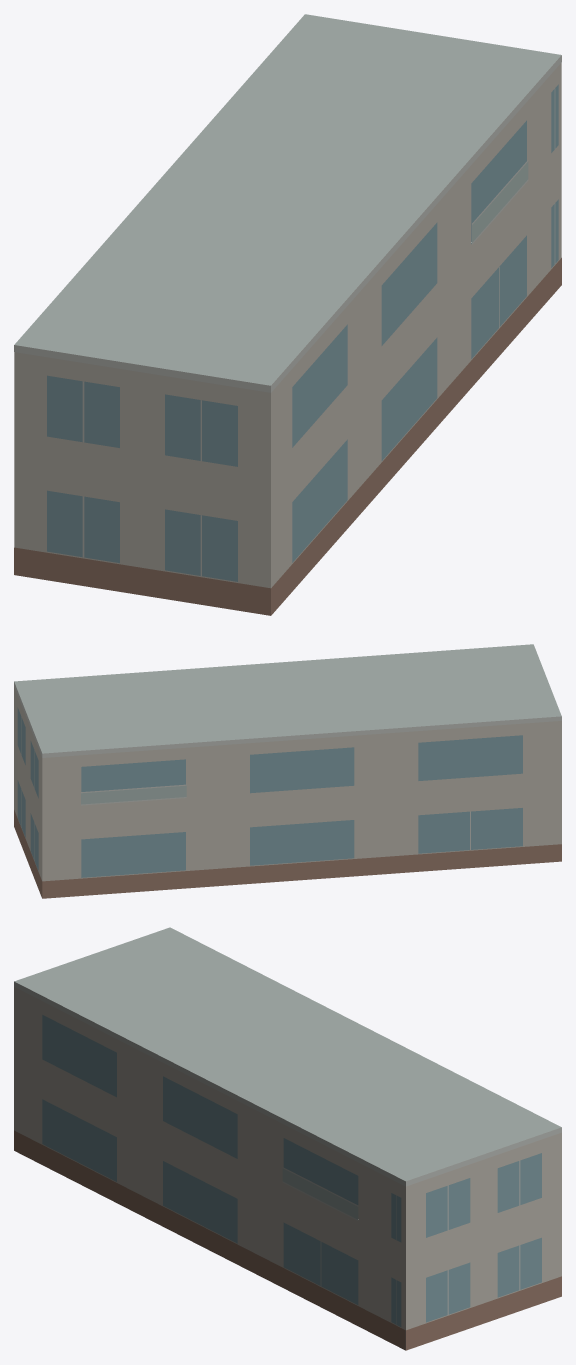
Rendered from survey-upis-32840279.glb.
3 renders of one model, top to bottom at view 1: azimuth 30°, elevation 25°; view 2: azimuth 150°, elevation 25°; view 3: azimuth 270°, elevation 25°, orthographic. The views are drawn at different scales.
Visible parts, largest first — view 1: survey-upis-32840279.tmp; view 2: survey-upis-32840279.tmp; view 3: survey-upis-32840279.tmp.
Part boxes in pixels (x1=…): survey-upis-32840279.tmp: x1=14, y1=14, x2=561, y2=615; survey-upis-32840279.tmp: x1=14, y1=644, x2=561, y2=898; survey-upis-32840279.tmp: x1=14, y1=927, x2=561, y2=1350.
Bounding box in the file's own units: 25.45 × 7.9 × 23.19.
